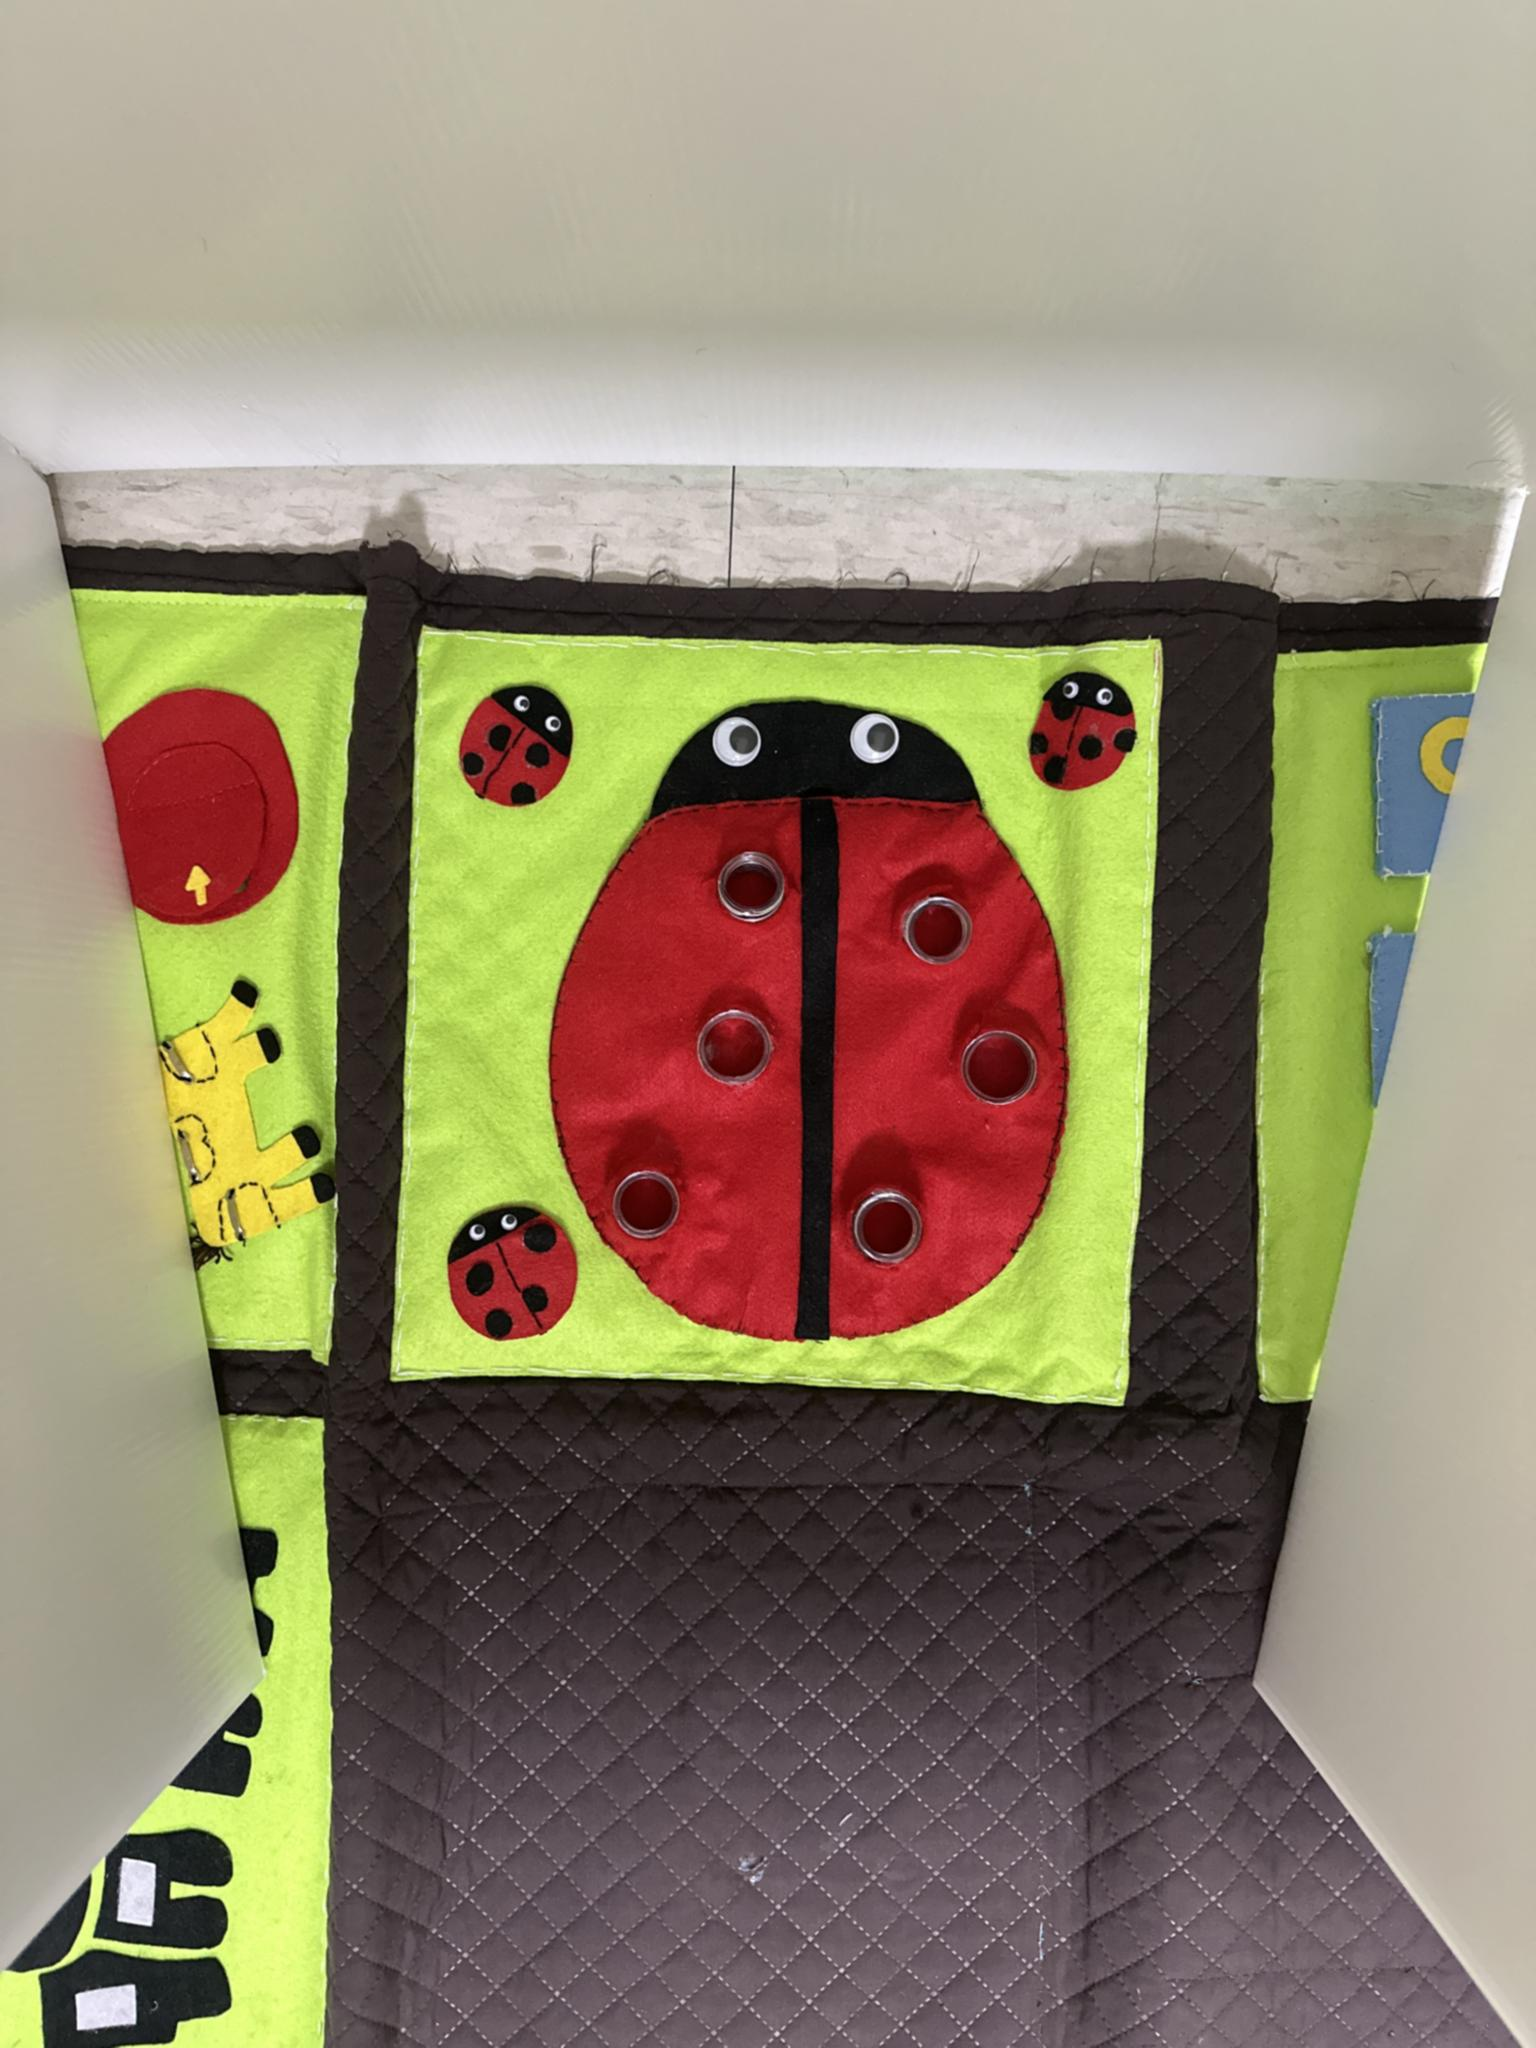hole: (713, 850, 789, 924), (963, 1029, 1037, 1101), (897, 895, 971, 966), (613, 1166, 684, 1238), (708, 1008, 771, 1085), (857, 1193, 921, 1261)
ladybug_case: (558, 711, 1071, 1345)
